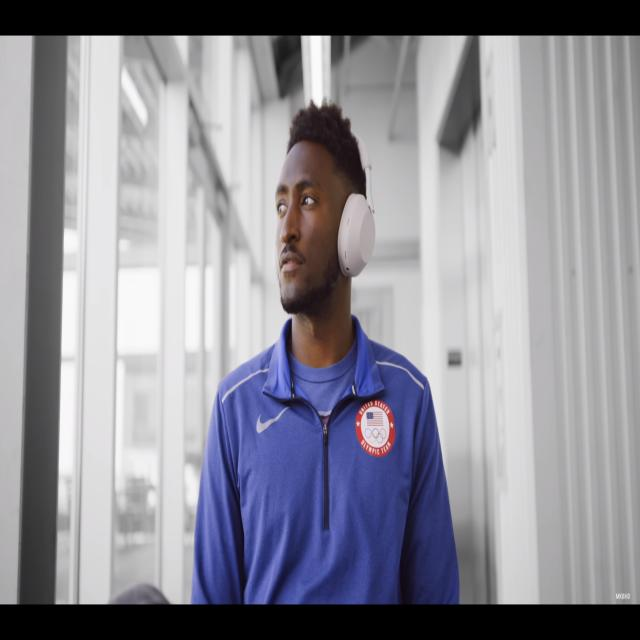Headphone: (337, 127, 376, 278)
